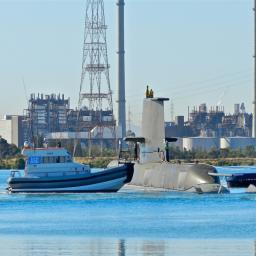submarine: (106, 97, 233, 194)
